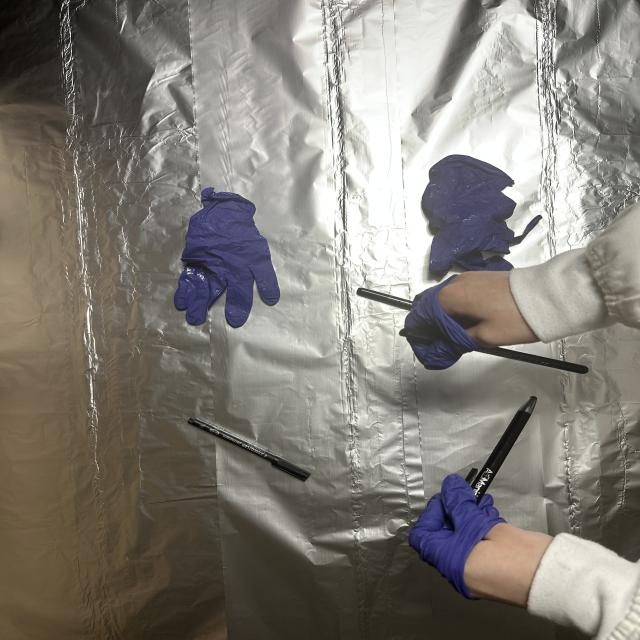glove_partial: (408, 470, 562, 604), (404, 269, 544, 371)
